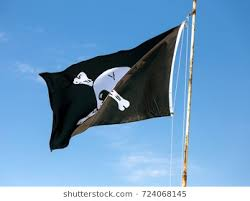Jolly Roger Flag: (38, 20, 187, 154)
